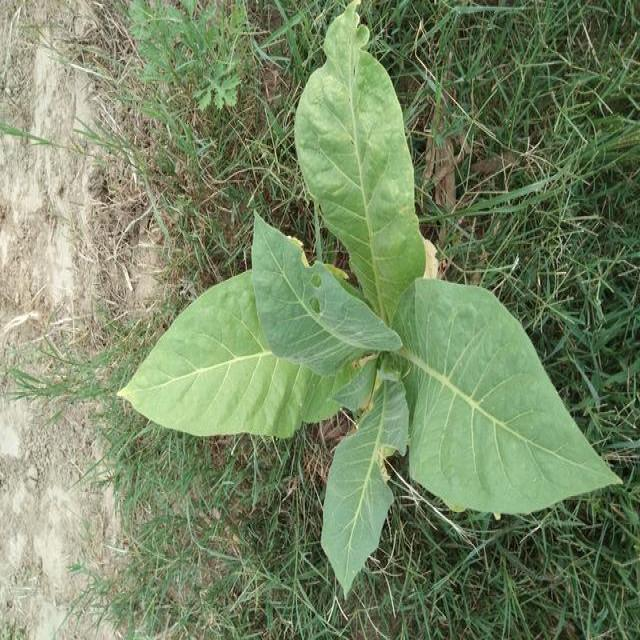crop: (117, 15, 628, 608)
